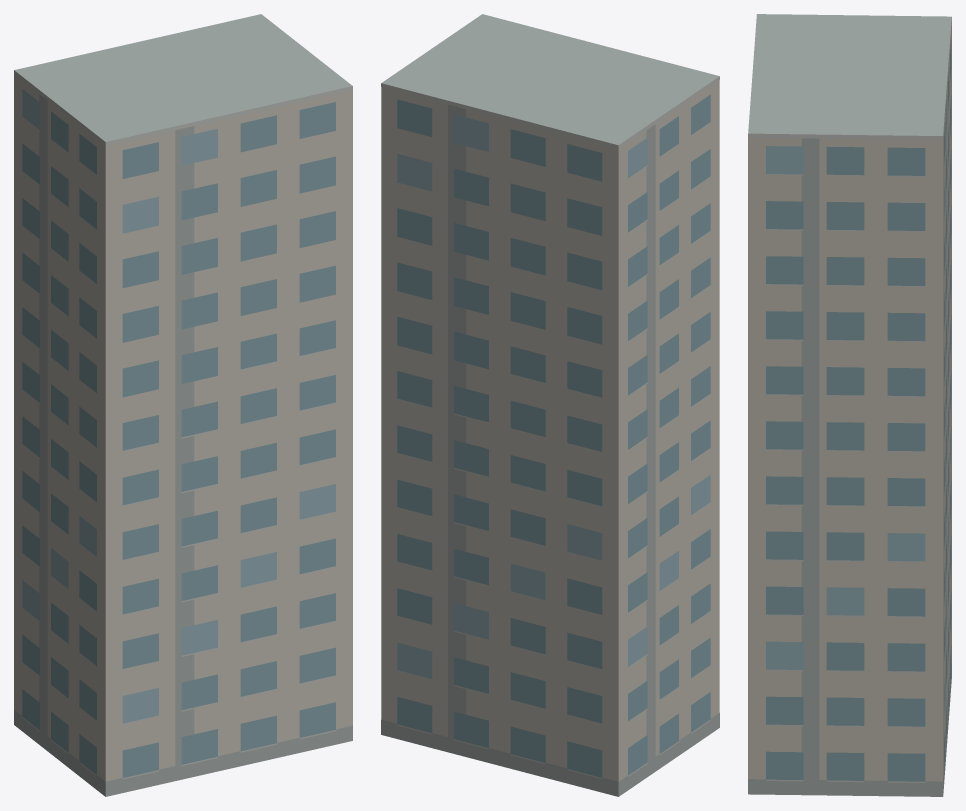
File: residential-f4d4d209-0bd7-439b-afda-a14be7cbc9c3.glb
The picture shows the model from 3 angles, left to right: view 1: azimuth 30°, elevation 25°; view 2: azimuth 150°, elevation 25°; view 3: azimuth 270°, elevation 25°; orthographic projection.
Parts seen in each view (by area): view 1: residential-f4d4d209-0bd7-439b-afda-a14be7cbc9c3.tmp; view 2: residential-f4d4d209-0bd7-439b-afda-a14be7cbc9c3.tmp; view 3: residential-f4d4d209-0bd7-439b-afda-a14be7cbc9c3.tmp.
Part boxes in pixels (<box>): residential-f4d4d209-0bd7-439b-afda-a14be7cbc9c3.tmp: <box>14,14,352,796</box>; residential-f4d4d209-0bd7-439b-afda-a14be7cbc9c3.tmp: <box>381,14,719,796</box>; residential-f4d4d209-0bd7-439b-afda-a14be7cbc9c3.tmp: <box>748,14,951,796</box>.
Size of the model in its own units: 15.86 by 40 by 11.19.
